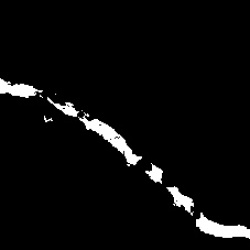crack: (2, 77, 248, 242)
